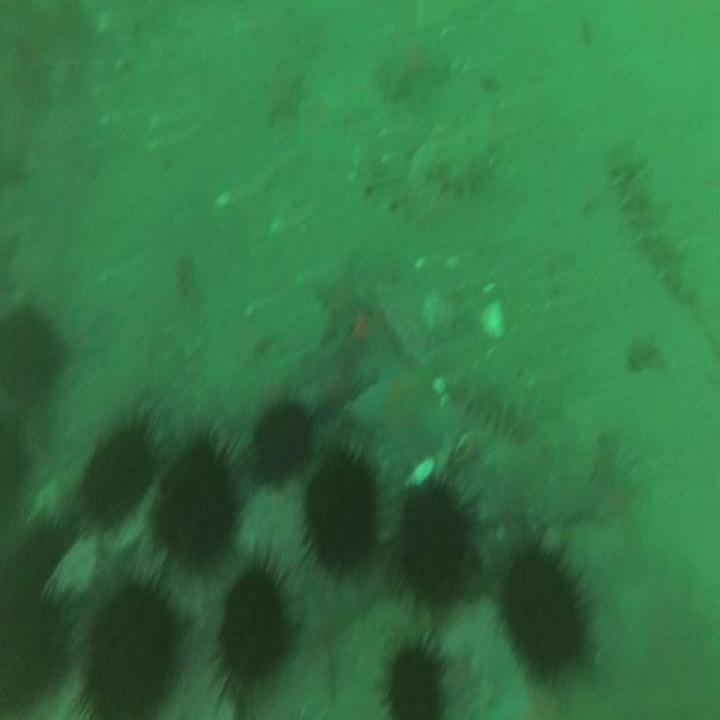echinus: (83, 581, 177, 713), (504, 553, 584, 672), (155, 439, 234, 558), (0, 590, 70, 713), (396, 492, 470, 604), (218, 569, 289, 679), (309, 461, 379, 566), (80, 434, 153, 522), (1, 311, 59, 395), (256, 404, 310, 477), (388, 640, 437, 720)
holothurian: (610, 135, 698, 302), (410, 115, 499, 194), (452, 366, 536, 439)
scallop: (402, 455, 436, 485)
starfish: (348, 356, 456, 458), (307, 254, 373, 342), (262, 60, 299, 124)
